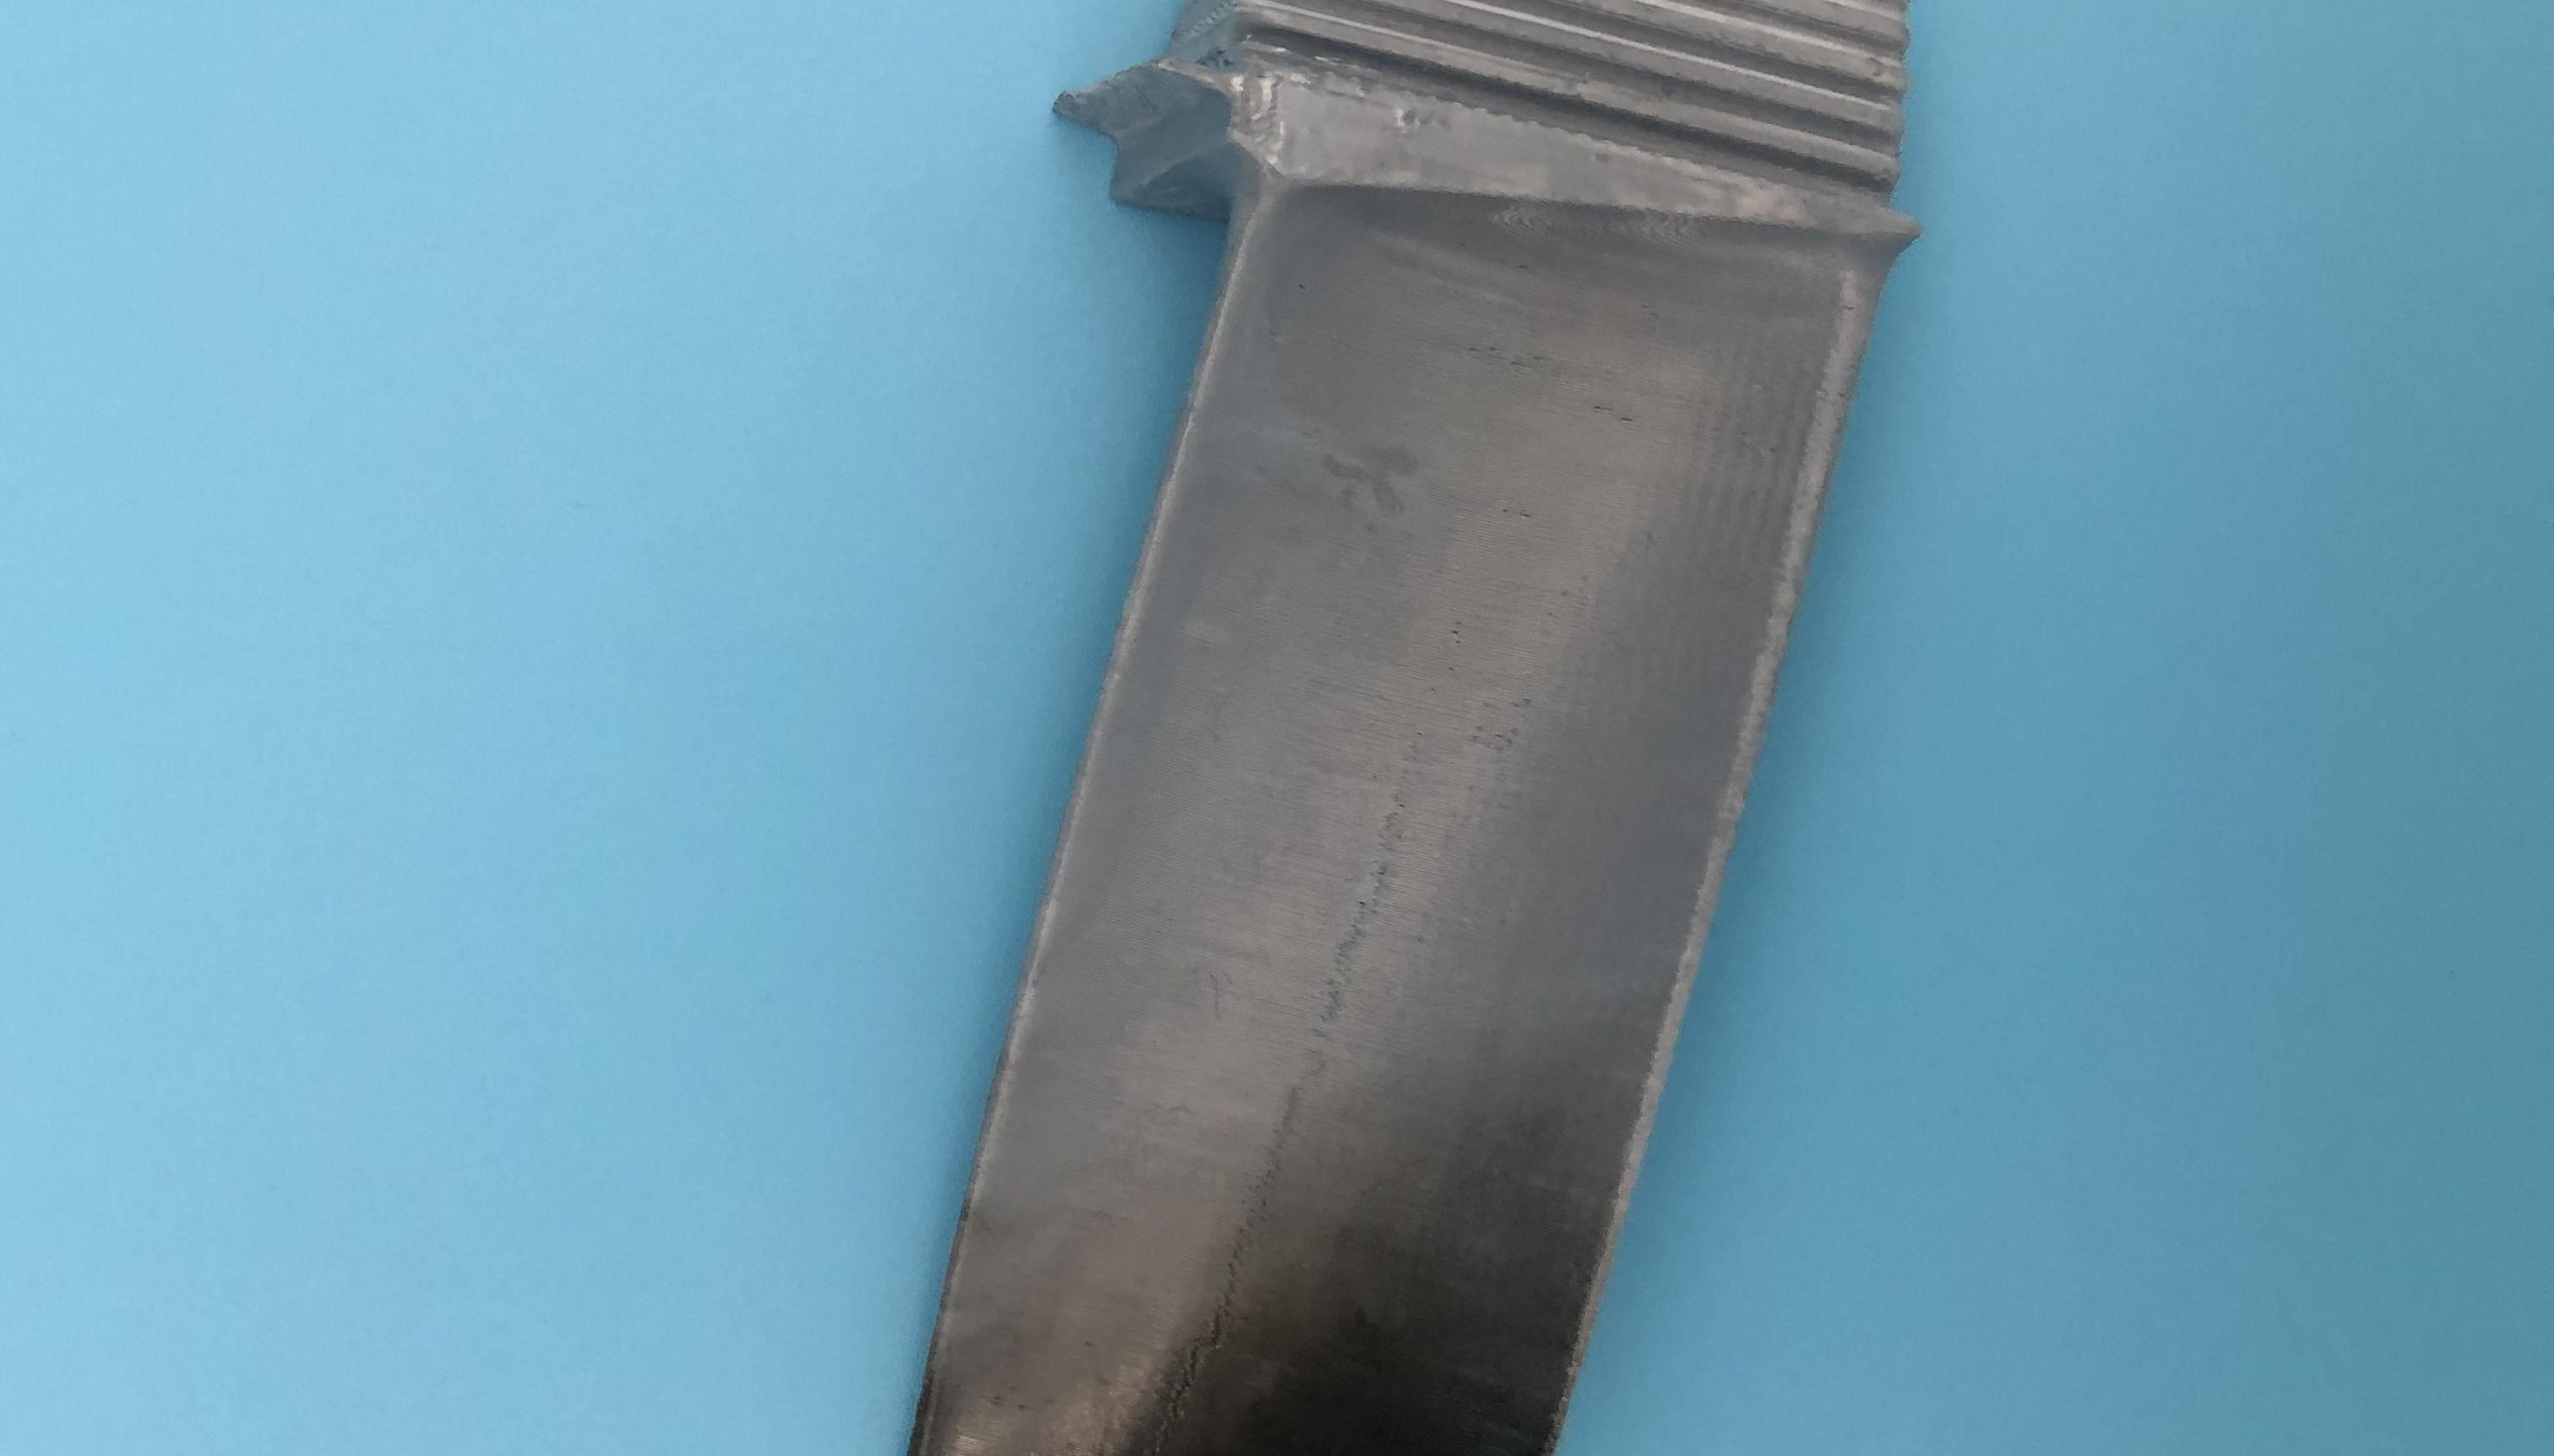ablation: (949, 1242, 1563, 1442)
